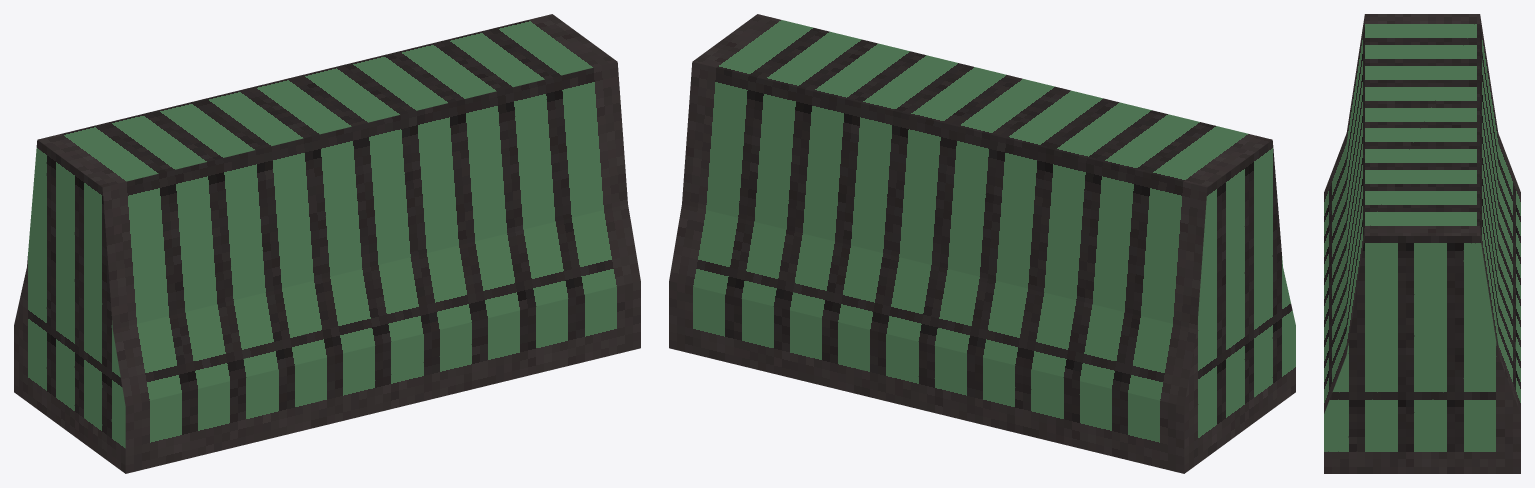
The model's file is detail_barrier_strong_type_a.glb.
3 renders of one model, left to right at view 1: azimuth 30°, elevation 25°; view 2: azimuth 150°, elevation 25°; view 3: azimuth 270°, elevation 25°, orthographic. The views are drawn at different scales.
Parts seen in each view (by area): view 1: detail-barrier-strong-type-a; view 2: detail-barrier-strong-type-a; view 3: detail-barrier-strong-type-a.
Part boxes in pixels (x1,y1,x2,y2): detail-barrier-strong-type-a: [14, 14, 640, 473]; detail-barrier-strong-type-a: [669, 14, 1295, 473]; detail-barrier-strong-type-a: [1324, 14, 1520, 473].
Size of the model in its own units: 0.664 by 0.332 by 0.249.
1 material, 1 textured.
